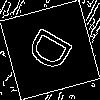D: (25, 25, 83, 79)
